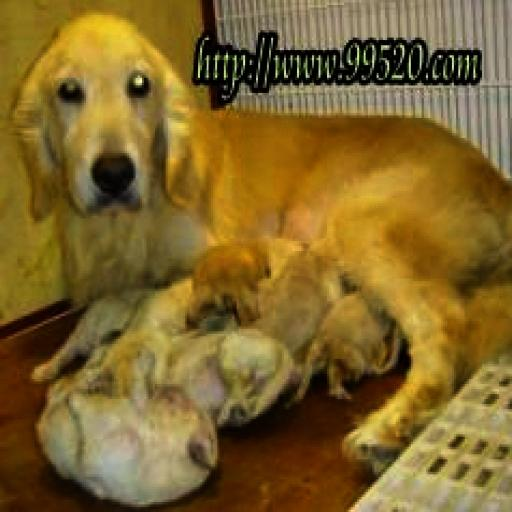dog_face: (8, 18, 180, 214)
